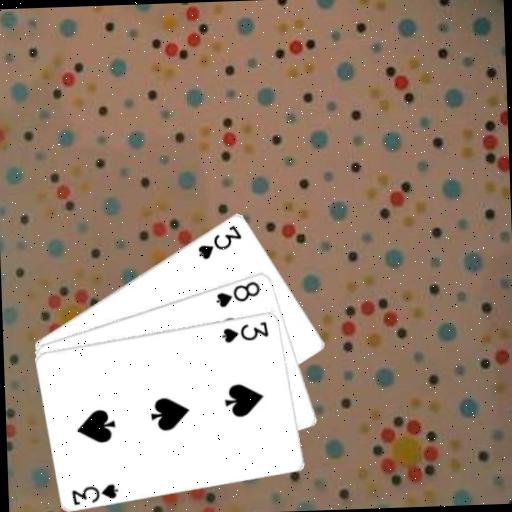3S: (194, 221, 244, 261), (219, 317, 271, 344), (68, 480, 120, 507)
8S: (212, 277, 262, 308)
